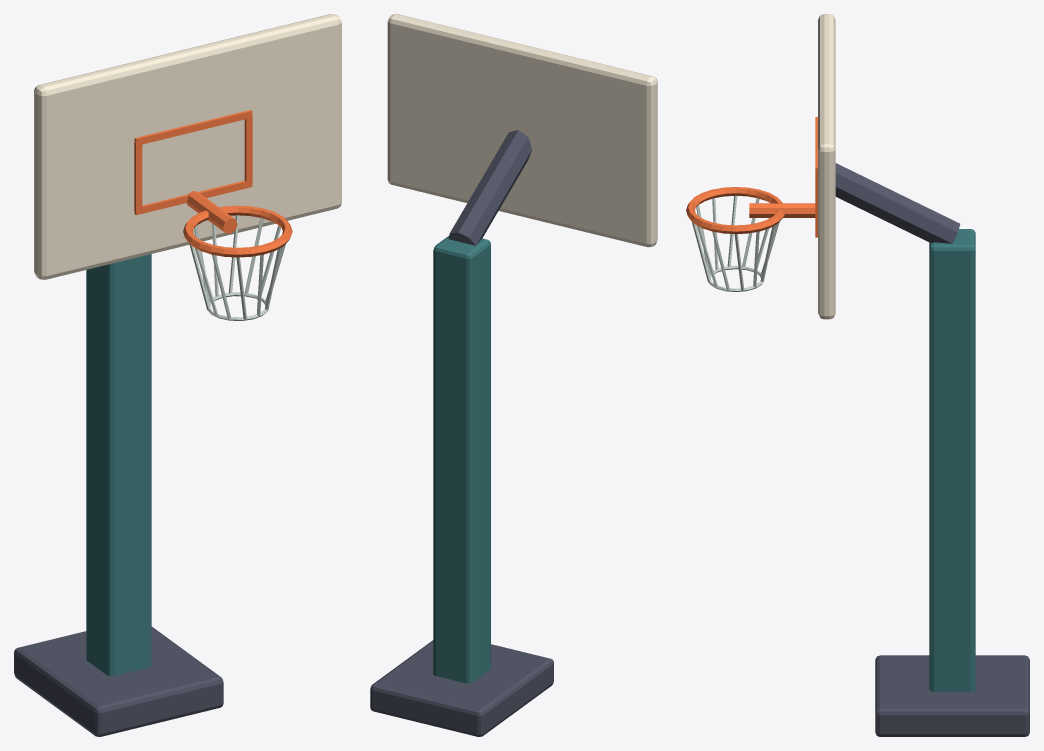
The model's file is basketball_hoop.glb.
3 views of the same model, side by side, from view 1: azimuth 30°, elevation 25°; view 2: azimuth 150°, elevation 25°; view 3: azimuth 270°, elevation 25° (orthographic). The views are drawn at different scales.
Visible parts, largest first — view 1: basketball_hoop_Mesh; view 2: basketball_hoop_Mesh; view 3: basketball_hoop_Mesh.
Boxes of the visible parts, x1,y1,x2,y2 form: basketball_hoop_Mesh: (14, 14, 341, 736); basketball_hoop_Mesh: (370, 14, 657, 736); basketball_hoop_Mesh: (686, 14, 1029, 736).
Size of the model in its own units: 1.65 by 3.6 by 1.78.
